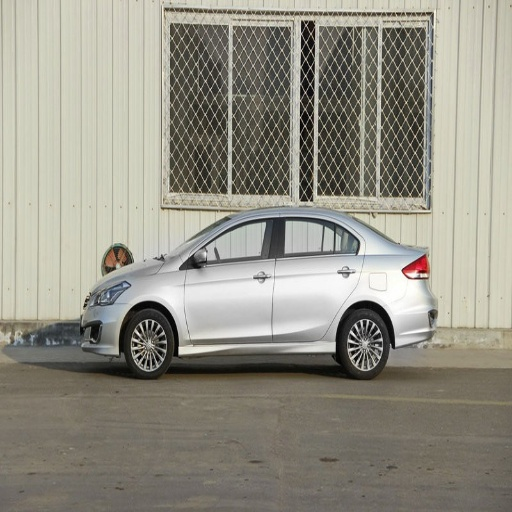back_left_door: (273, 216, 361, 341)
front_left_door: (184, 216, 276, 344)
